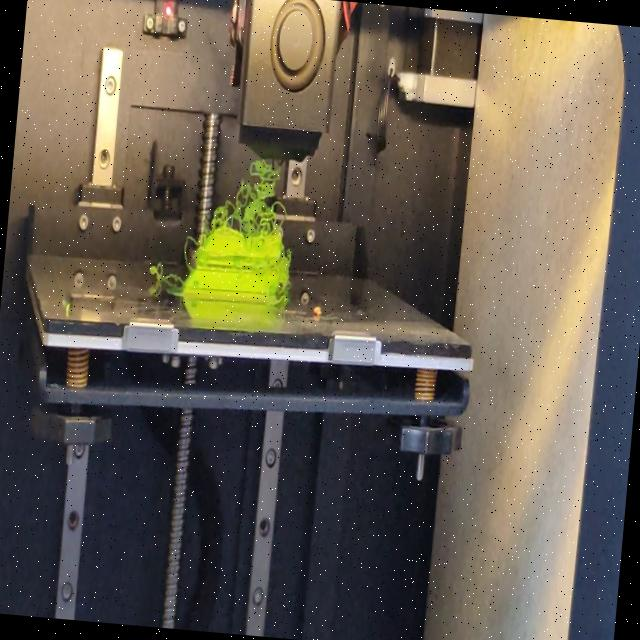spaghetti: (207, 154, 290, 237), (147, 262, 182, 288), (180, 232, 194, 270), (276, 286, 286, 302)
